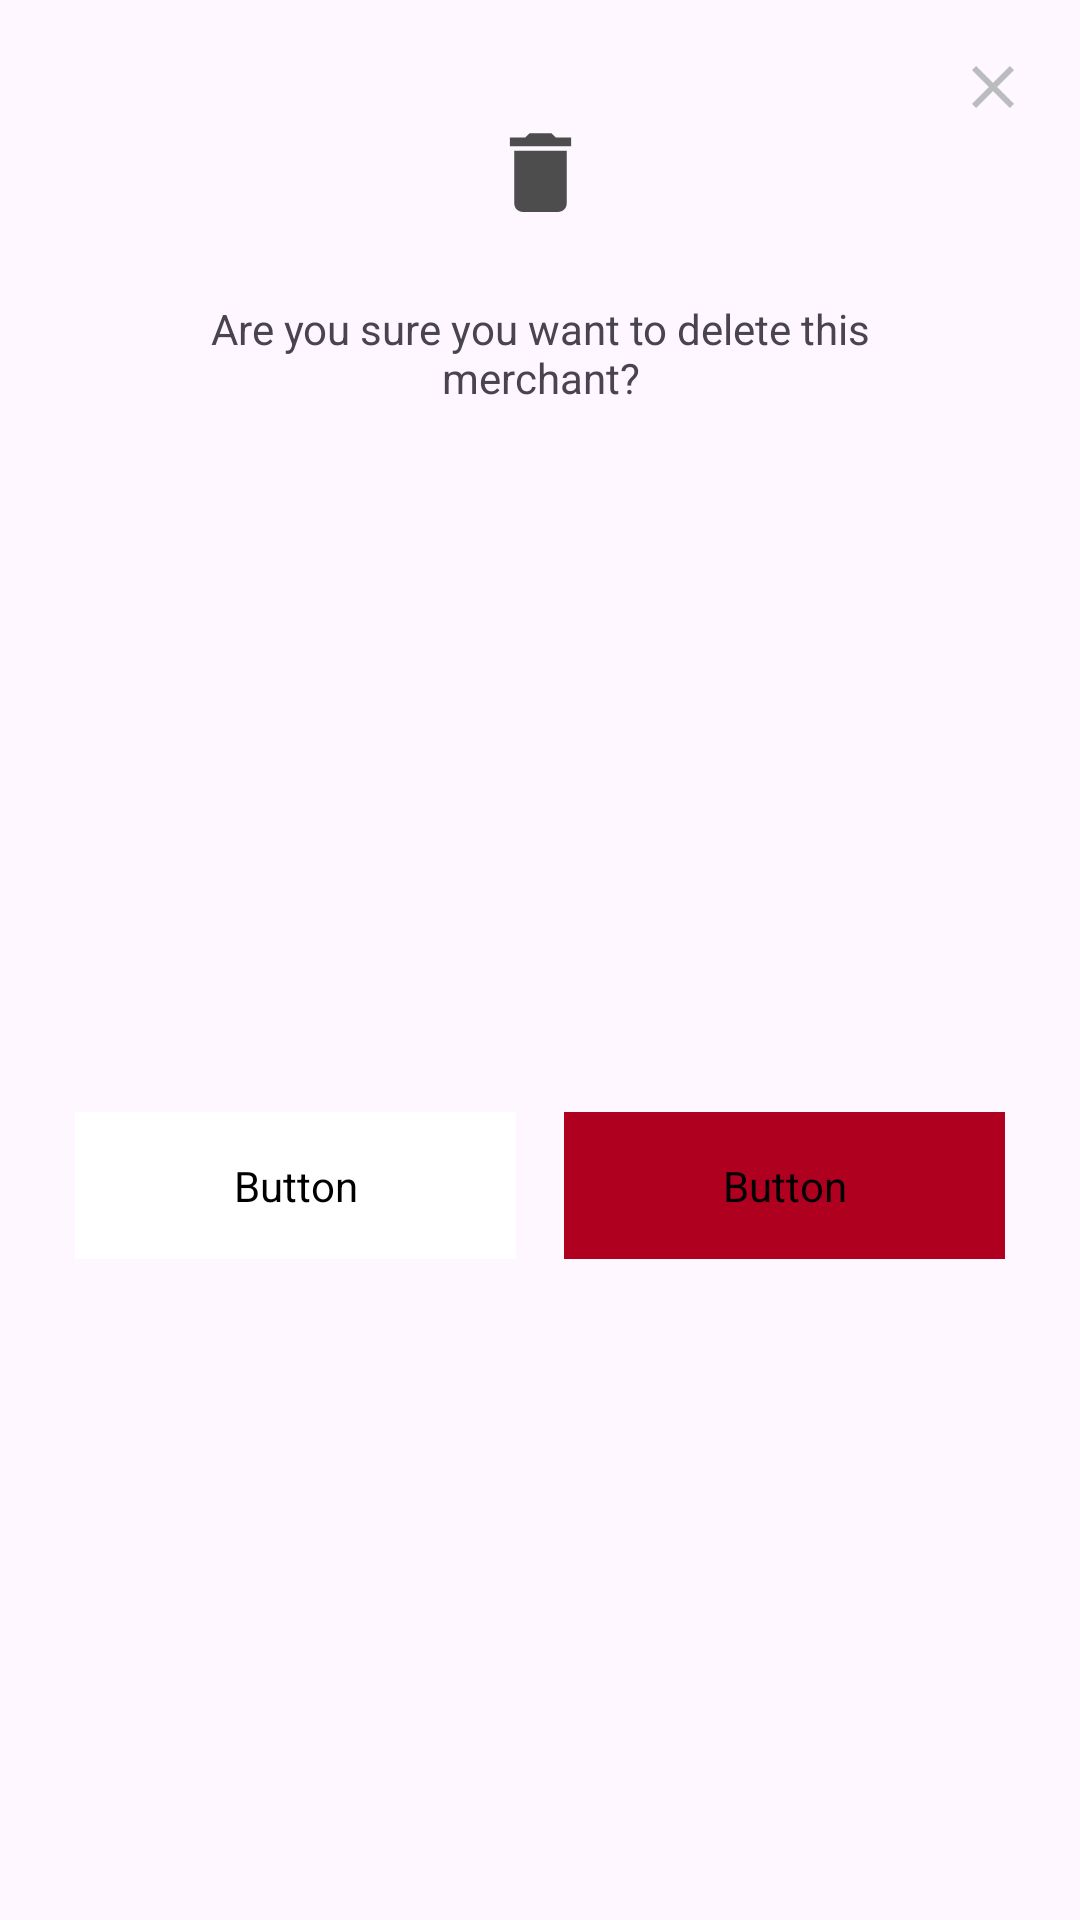

Where icons sit on this 1080w x 1920h app screen, as (x1=x1, y1=y1, x2=x2, y2=y2):
close: (x1=972, y1=66, x2=1014, y2=108)
merchantdetail delete: (x1=510, y1=133, x2=571, y2=212)
